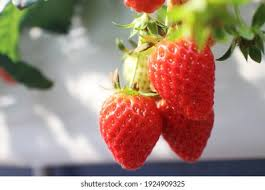ripe: (147, 27, 219, 124), (154, 83, 220, 169), (97, 84, 160, 173), (125, 2, 169, 18)
